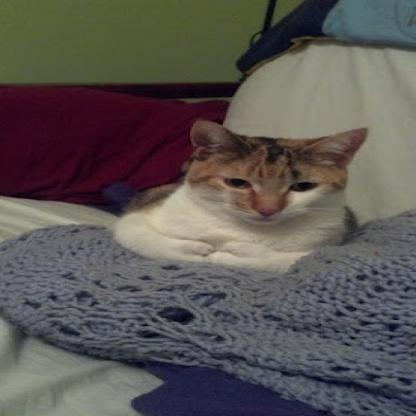Target: (121, 124, 380, 276)
